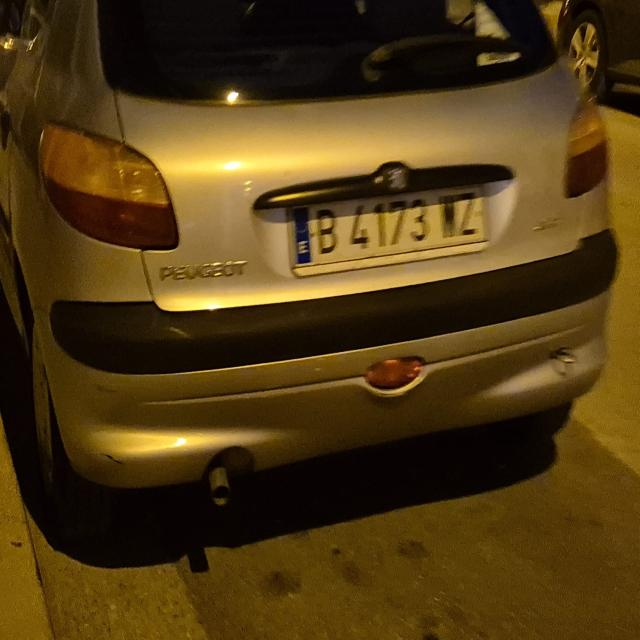license_plate-34Td: (292, 183, 487, 268)
